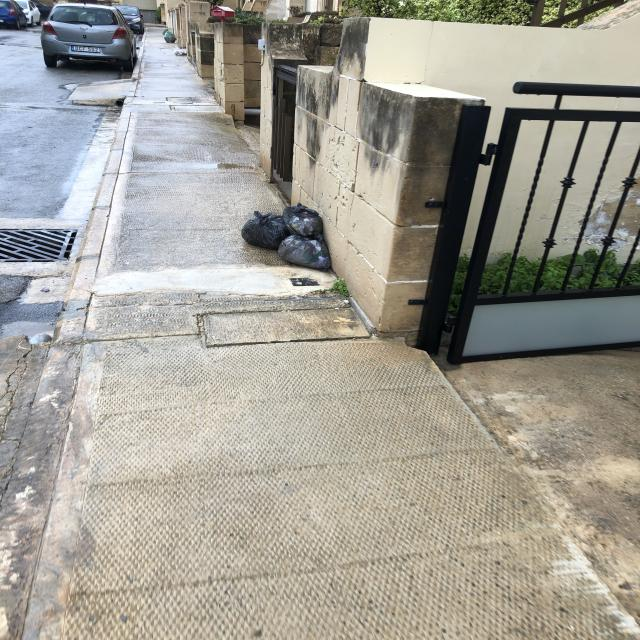Mixed Waste -Black Bag-: (279, 237, 333, 273), (242, 215, 292, 252), (284, 206, 325, 236)
